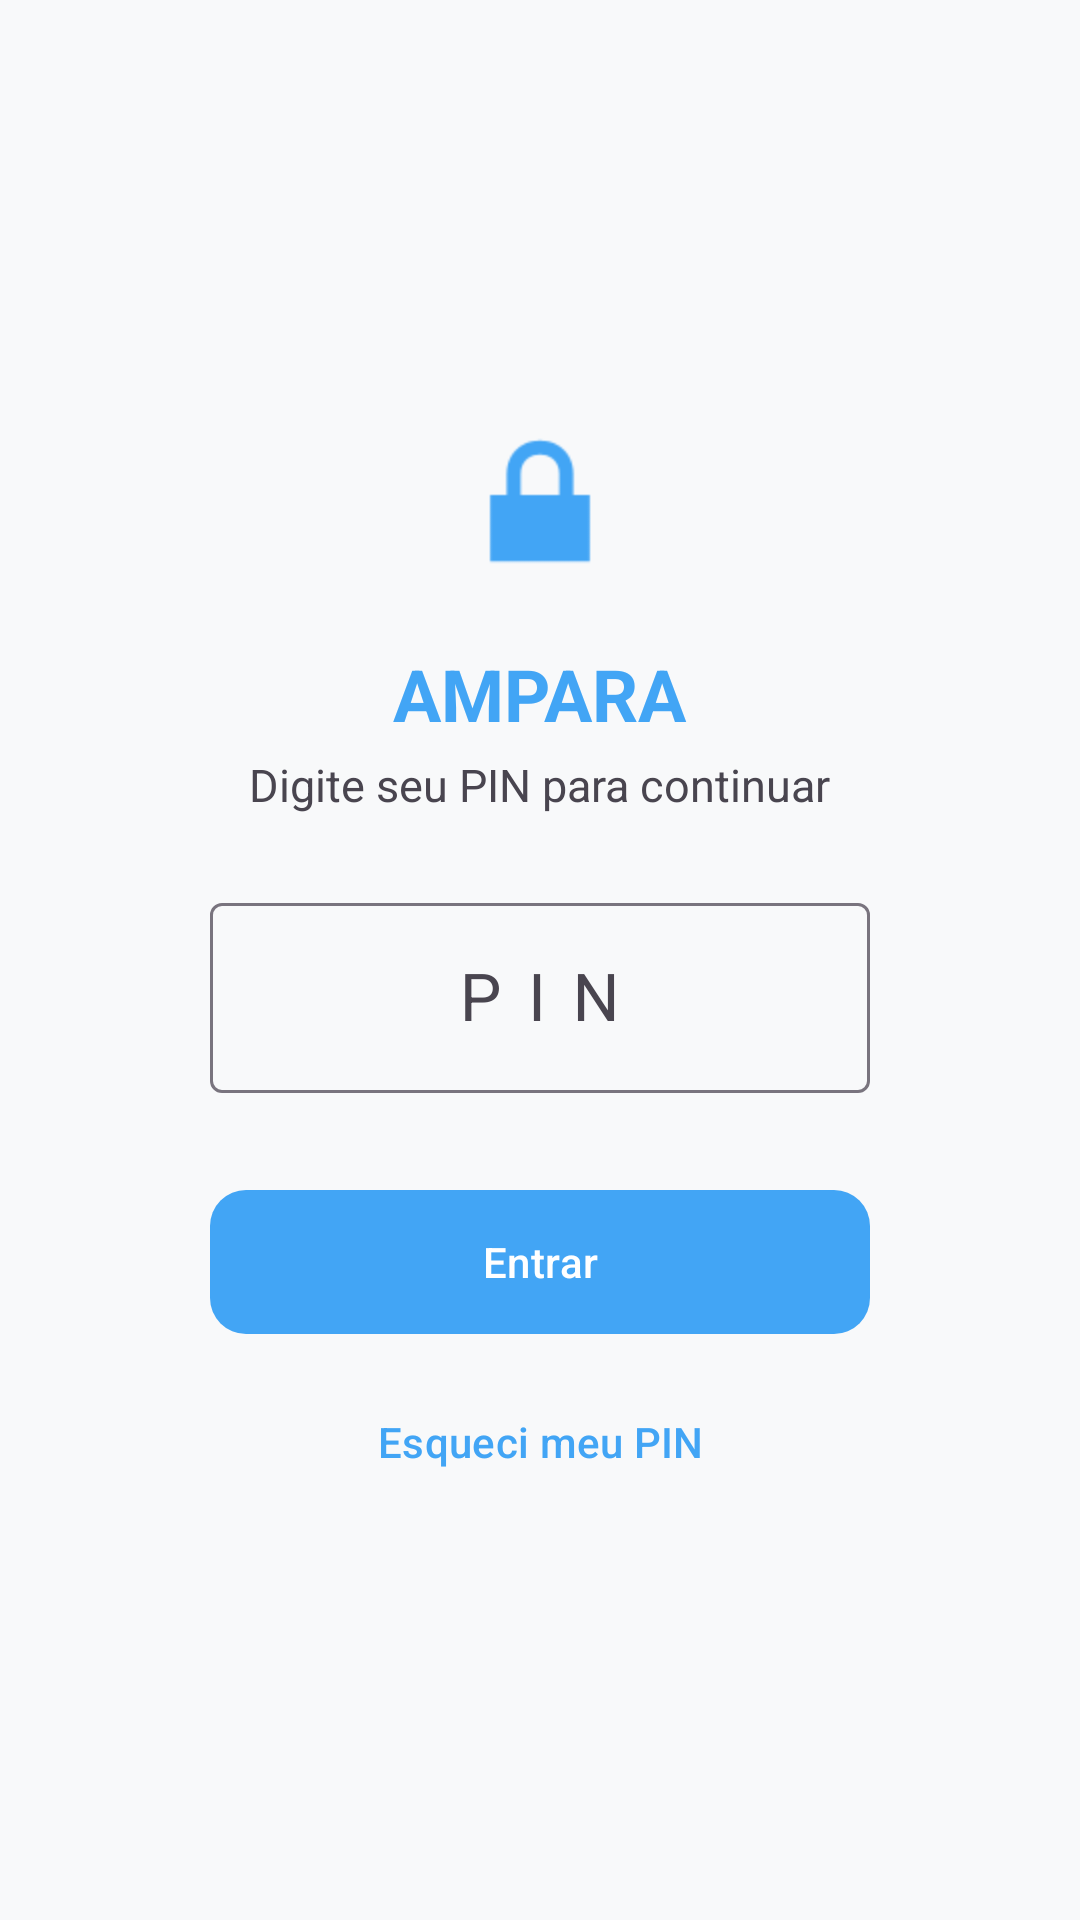

Icons on this 1080px x 1920px Android screen, each with the point to tap as (x,y):
Bloqueado: (540,501)
